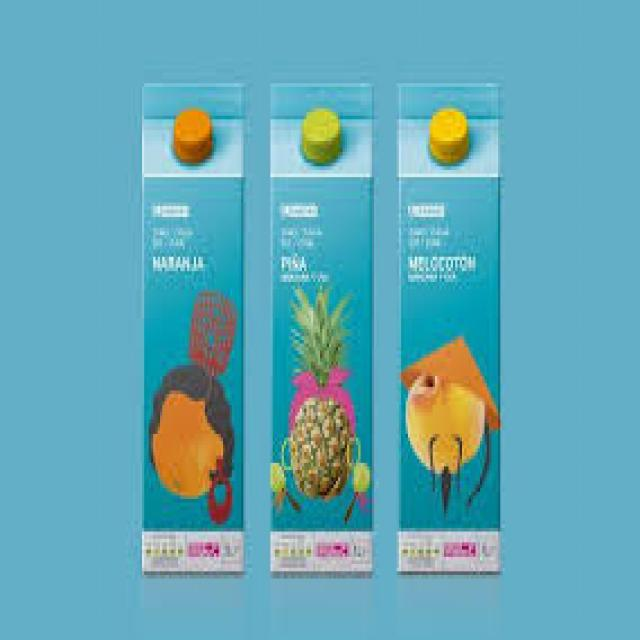non_white_jug: (391, 63, 510, 588), (261, 70, 381, 588), (132, 65, 251, 586)
